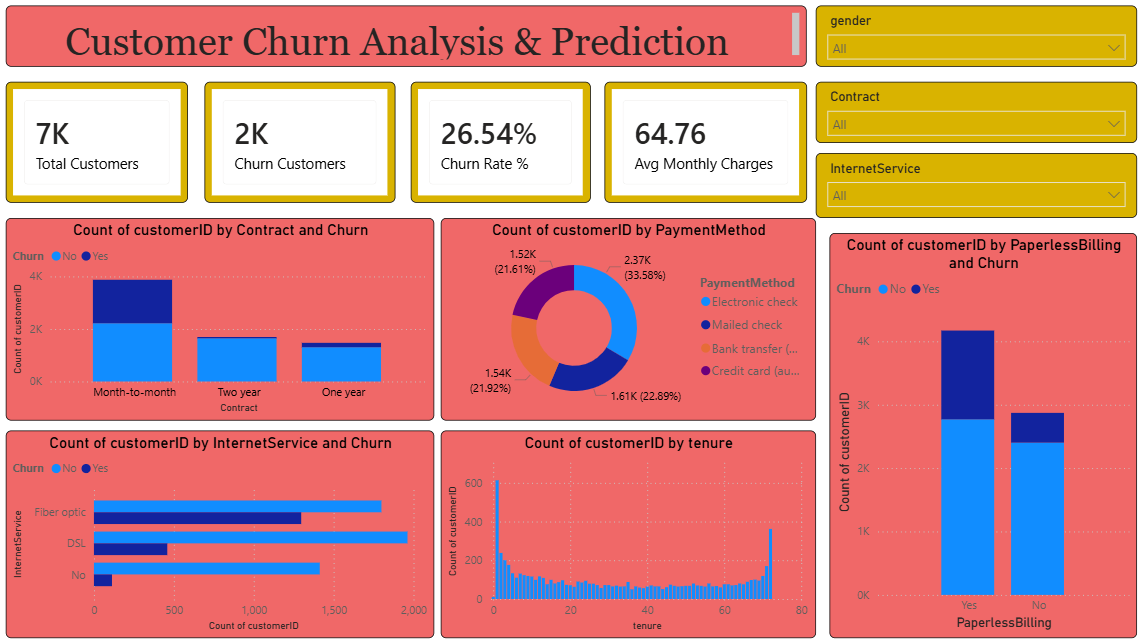

Layout of this report page (visuals, bound fields, positions):
{"tool":"powerbi","page":{"name":"Page 1","canvas":[1280,720],"ordinal":0},"visuals":[{"type":"cardVisual","fields":{"Data":["WA_Fn-UseC_-Telco-Customer-Churn.Total Customers"]},"box":[9.6,97.4,200.3,133.1],"z":0},{"type":"cardVisual","fields":{"Data":["WA_Fn-UseC_-Telco-Customer-Churn.Avg Monthly Charges"]},"box":[666.9,97.4,222.3,133.1],"z":1000},{"type":"cardVisual","fields":{"Data":["WA_Fn-UseC_-Telco-Customer-Churn.Churn Rate %"]},"box":[454.2,97.4,197.6,133.1],"z":2000},{"type":"cardVisual","fields":{"Data":["WA_Fn-UseC_-Telco-Customer-Churn.Churn Customers"]},"box":[227.8,97.4,209.9,133.1],"z":3000},{"type":"columnChart","fields":{"Category":["WA_Fn-UseC_-Telco-Customer-Churn.Contract"],"Series":["WA_Fn-UseC_-Telco-Customer-Churn.Churn"],"Y":["CountNonNull(WA_Fn-UseC_-Telco-Customer-Churn.customerID)"]},"box":[9.6,247,470.7,222.3],"z":4000},{"type":"clusteredBarChart","fields":{"Category":["WA_Fn-UseC_-Telco-Customer-Churn.InternetService"],"Series":["WA_Fn-UseC_-Telco-Customer-Churn.Churn"],"Y":["CountNonNull(WA_Fn-UseC_-Telco-Customer-Churn.customerID)"]},"box":[9.6,480.3,470.7,227.8],"z":5000},{"type":"clusteredColumnChart","fields":{"Category":["WA_Fn-UseC_-Telco-Customer-Churn.tenure"],"Y":["CountNonNull(WA_Fn-UseC_-Telco-Customer-Churn.customerID)"]},"box":[487.1,480.3,411.7,227.8],"z":6000},{"type":"donutChart","fields":{"Category":["WA_Fn-UseC_-Telco-Customer-Churn.PaymentMethod"],"Y":["CountNonNull(WA_Fn-UseC_-Telco-Customer-Churn.customerID)"]},"box":[487.1,247,411.7,222.3],"z":7000},{"type":"slicer","fields":{"Values":["WA_Fn-UseC_-Telco-Customer-Churn.gender"]},"box":[898.8,13.7,352.7,67.2],"z":8000},{"type":"slicer","fields":{"Values":["WA_Fn-UseC_-Telco-Customer-Churn.Contract"]},"box":[898.8,97.4,352.7,67.2],"z":9000},{"type":"slicer","fields":{"Values":["WA_Fn-UseC_-Telco-Customer-Churn.InternetService"]},"box":[898.8,175.6,352.7,71.4],"z":10000},{"type":"columnChart","fields":{"Category":["WA_Fn-UseC_-Telco-Customer-Churn.PaperlessBilling"],"Series":["WA_Fn-UseC_-Telco-Customer-Churn.Churn"],"Y":["CountNonNull(WA_Fn-UseC_-Telco-Customer-Churn.customerID)"]},"box":[913.9,263.5,337.6,444.6],"z":11000},{"type":"textbox","box":[9.6,13.7,879.6,67.2],"z":12000}]}

Visuals, with their boxes in screenshot pixels (x1, y1, x2, y2), scaled from the page's 1280x720 canvas onto the 1146x644 screenshot:
cardVisual - WA_Fn-UseC_-Telco-Customer-Churn.Total Customers: [9, 87, 188, 206]
cardVisual - WA_Fn-UseC_-Telco-Customer-Churn.Avg Monthly Charges: [597, 87, 796, 206]
cardVisual - WA_Fn-UseC_-Telco-Customer-Churn.Churn Rate %: [407, 87, 584, 206]
cardVisual - WA_Fn-UseC_-Telco-Customer-Churn.Churn Customers: [204, 87, 392, 206]
columnChart - WA_Fn-UseC_-Telco-Customer-Churn.Contract x WA_Fn-UseC_-Telco-Customer-Churn.Churn: [9, 221, 430, 420]
clusteredBarChart - WA_Fn-UseC_-Telco-Customer-Churn.InternetService x WA_Fn-UseC_-Telco-Customer-Churn.Churn: [9, 430, 430, 633]
clusteredColumnChart - WA_Fn-UseC_-Telco-Customer-Churn.tenure x CountNonNull(WA_Fn-UseC_-Telco-Customer-Churn.customerID): [436, 430, 805, 633]
donutChart - WA_Fn-UseC_-Telco-Customer-Churn.PaymentMethod x CountNonNull(WA_Fn-UseC_-Telco-Customer-Churn.customerID): [436, 221, 805, 420]
slicer - WA_Fn-UseC_-Telco-Customer-Churn.gender: [805, 12, 1120, 72]
slicer - WA_Fn-UseC_-Telco-Customer-Churn.Contract: [805, 87, 1120, 147]
slicer - WA_Fn-UseC_-Telco-Customer-Churn.InternetService: [805, 157, 1120, 221]
columnChart - WA_Fn-UseC_-Telco-Customer-Churn.PaperlessBilling x WA_Fn-UseC_-Telco-Customer-Churn.Churn: [818, 236, 1120, 633]
textbox: [9, 12, 796, 72]
